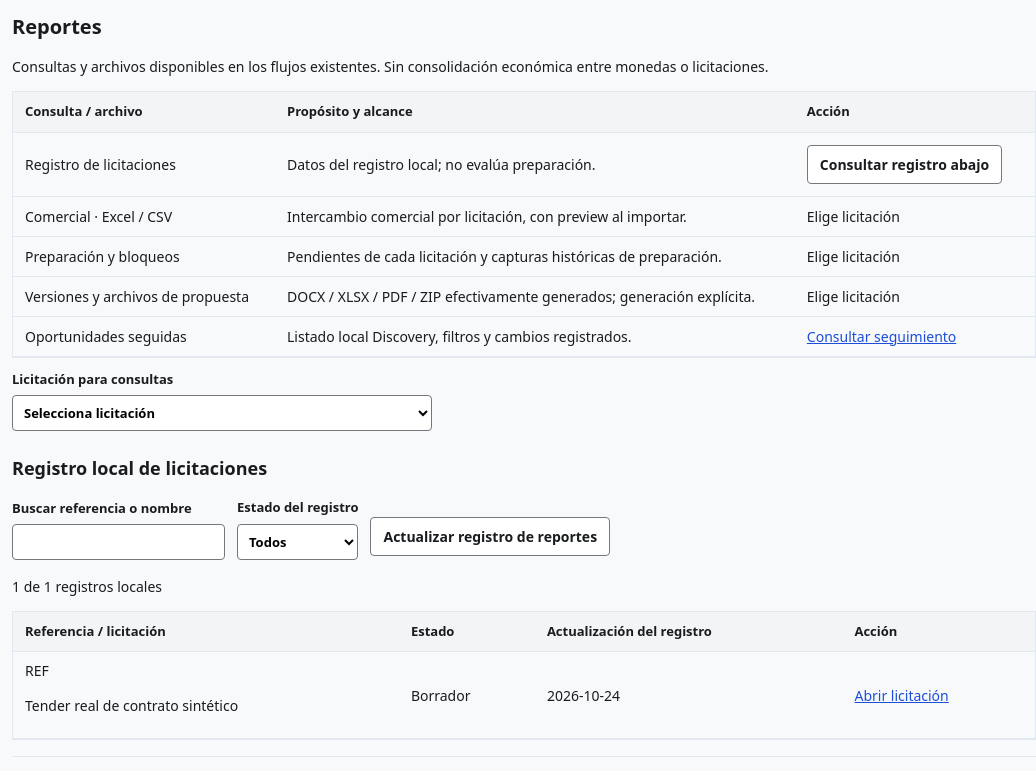
Test: UIR6-08–13 reports catalogue uses real scope and canonical links, no fake export or analytics
Check: the text "Tender real de contrato sintético" is shown, box [25,696,238,715]
Select "REF" in the dropdown labelled "Licitación para consultas" at (222, 413), box [12,395,432,431]
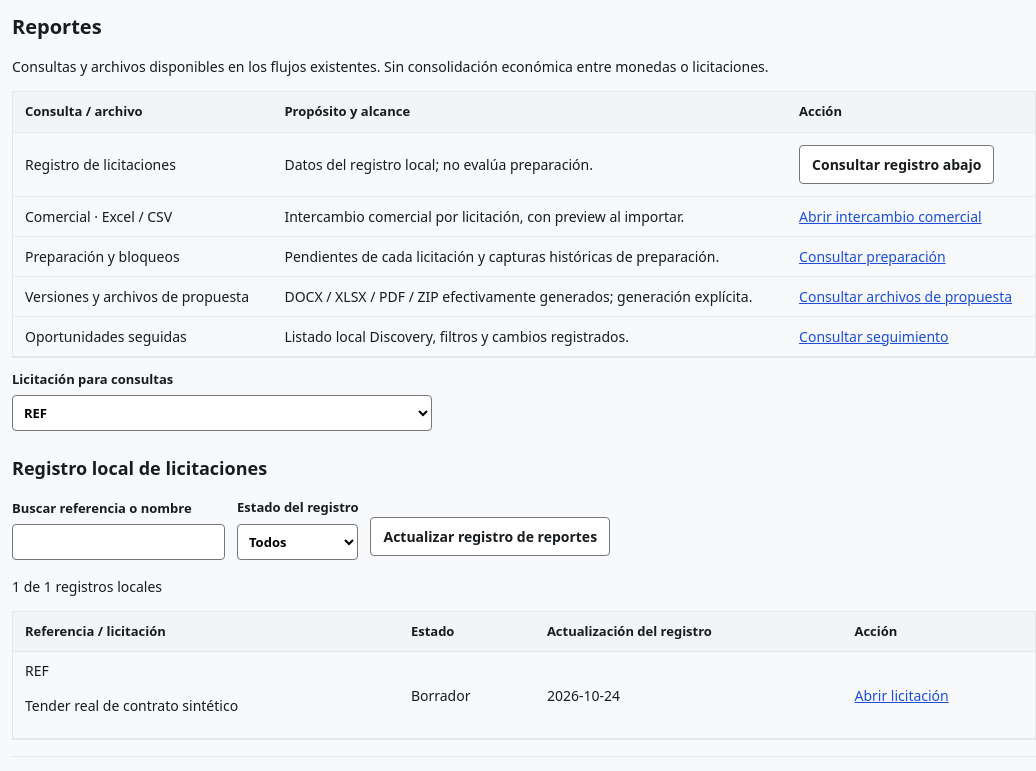
Select "Archivada" in the dropdown labelled "Estado del registro" at (298, 542), box [237,524,358,560]
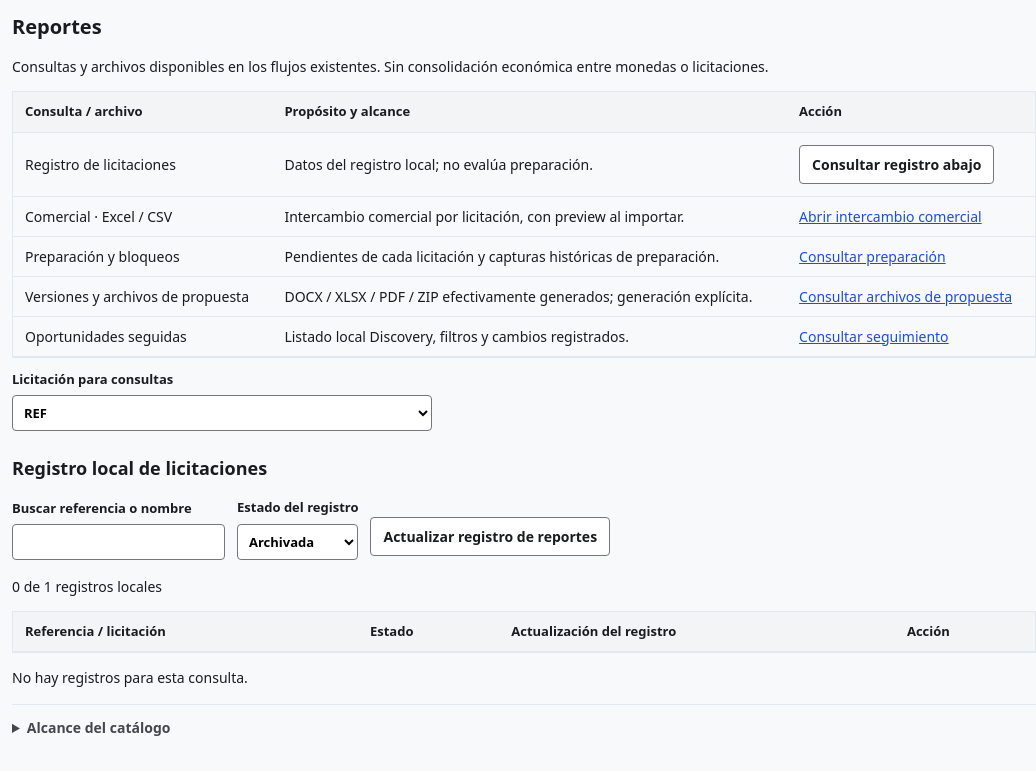
Check: the text "No hay registros para esta consulta." is shown, box [12,668,248,687]
